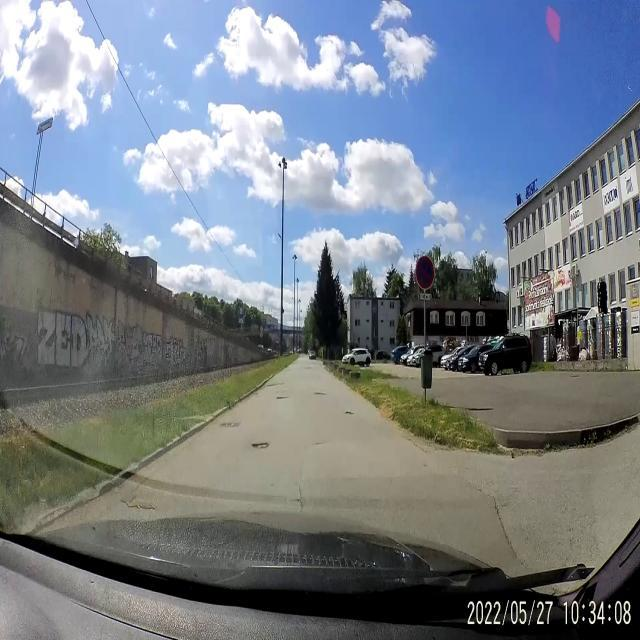Manhole: (218, 418, 242, 432)
Pothole: (120, 500, 155, 512), (250, 436, 270, 452), (264, 380, 286, 390), (312, 387, 328, 399), (274, 390, 292, 400), (342, 408, 354, 422)
